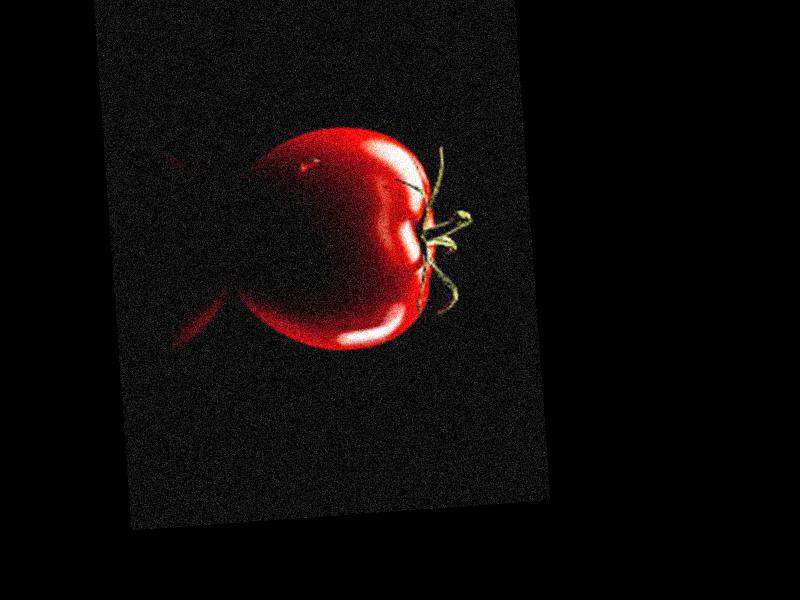Tomato: (231, 120, 449, 356)
